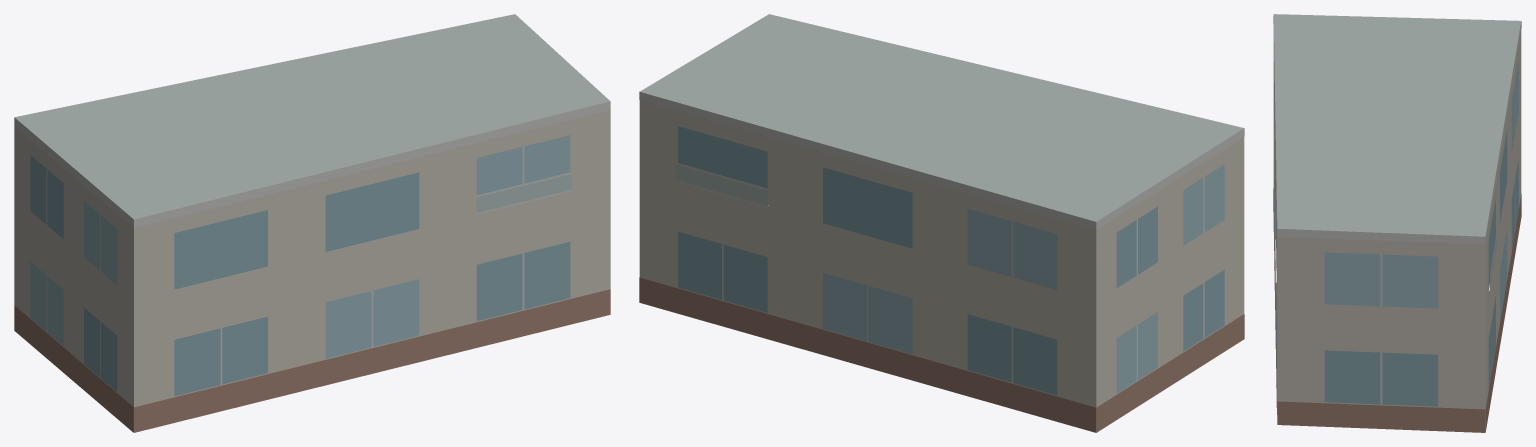
Rendered from survey-upis-32654967.glb.
The picture shows the model from 3 angles, left to right: view 1: azimuth 30°, elevation 25°; view 2: azimuth 150°, elevation 25°; view 3: azimuth 270°, elevation 25°; orthographic projection. The views are drawn at different scales.
Parts seen in each view (by area): view 1: survey-upis-32654967.tmp; view 2: survey-upis-32654967.tmp; view 3: survey-upis-32654967.tmp.
Part boxes in pixels (left/top/right/bottom): survey-upis-32654967.tmp: left=14, top=14, right=610, bottom=432; survey-upis-32654967.tmp: left=639, top=14, right=1244, bottom=432; survey-upis-32654967.tmp: left=1273, top=14, right=1521, bottom=432.
Size of the model in its own units: 14.87 by 6.1 by 6.99.
